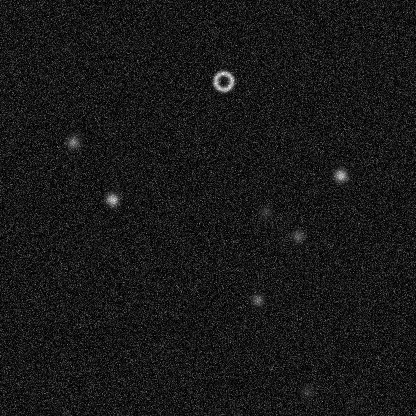Ring: (211, 69, 235, 93)
Spot: (258, 204, 274, 220), (104, 191, 120, 207), (64, 134, 80, 150), (332, 167, 348, 183), (299, 383, 315, 399), (289, 227, 305, 243), (249, 291, 265, 307)
